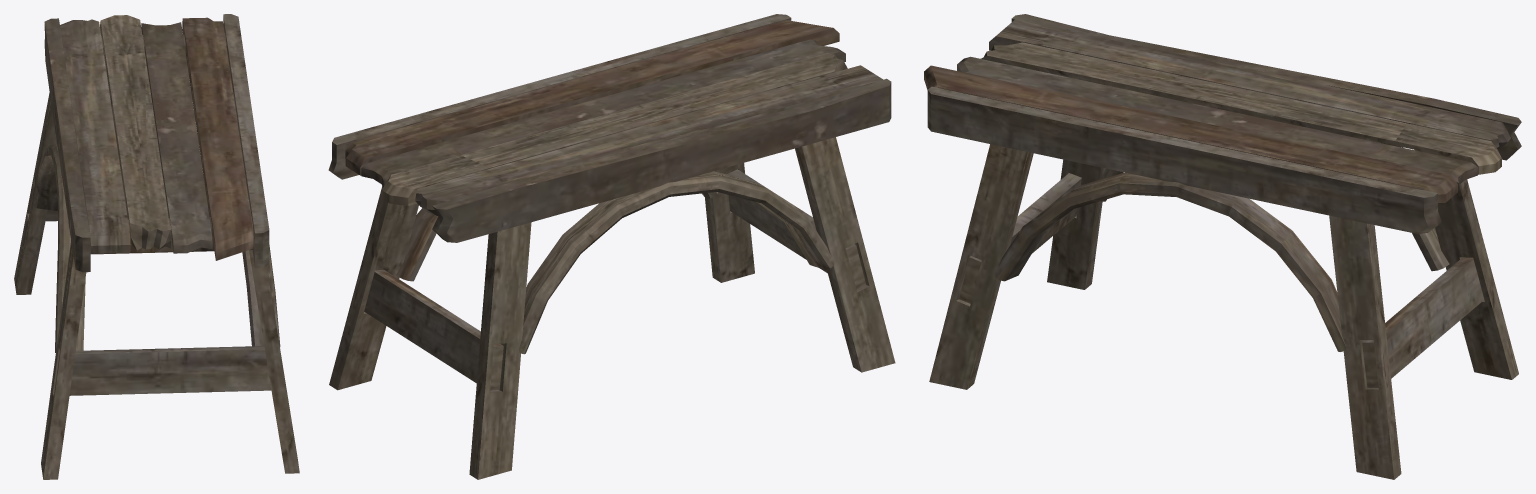
File: Table_01.glb
The picture shows the model from 3 angles, left to right: view 1: azimuth 30°, elevation 25°; view 2: azimuth 150°, elevation 25°; view 3: azimuth 270°, elevation 25°; orthographic projection. The views are drawn at different scales.
Parts seen in each view (by area): view 1: SM_Table_01; view 2: SM_Table_01; view 3: SM_Table_01.
Part boxes in pixels (left/top/right/bottom): SM_Table_01: left=14, top=14, right=299, bottom=479; SM_Table_01: left=328, top=14, right=895, bottom=479; SM_Table_01: left=924, top=14, right=1521, bottom=479.
Bounding box in the file's own units: 1.37 × 0.8557 × 1.69.
Materials: 1 (1 with a texture image).
